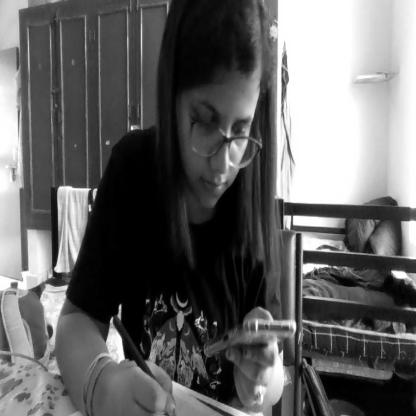Distracted: (168, 0, 268, 227)
